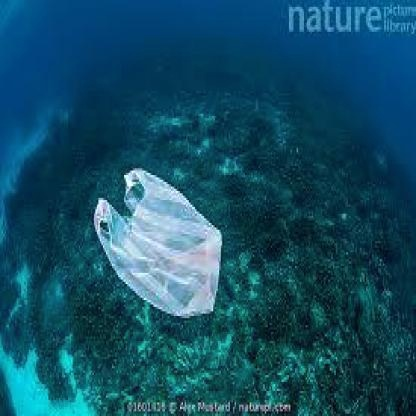pbag: (92, 166, 222, 320)
